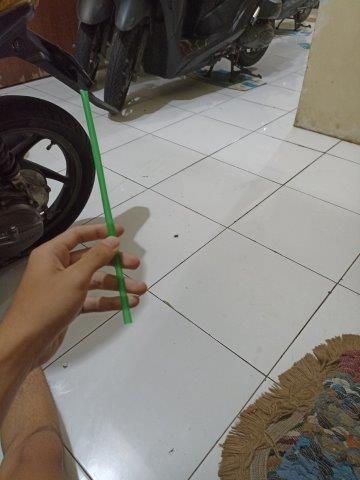sedotan: (79, 91, 132, 322)
